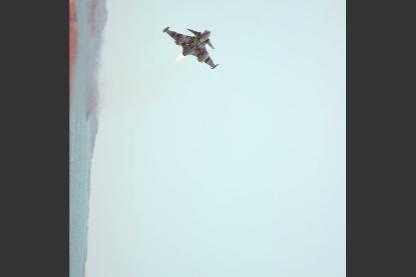JAS39: (163, 24, 220, 67)
